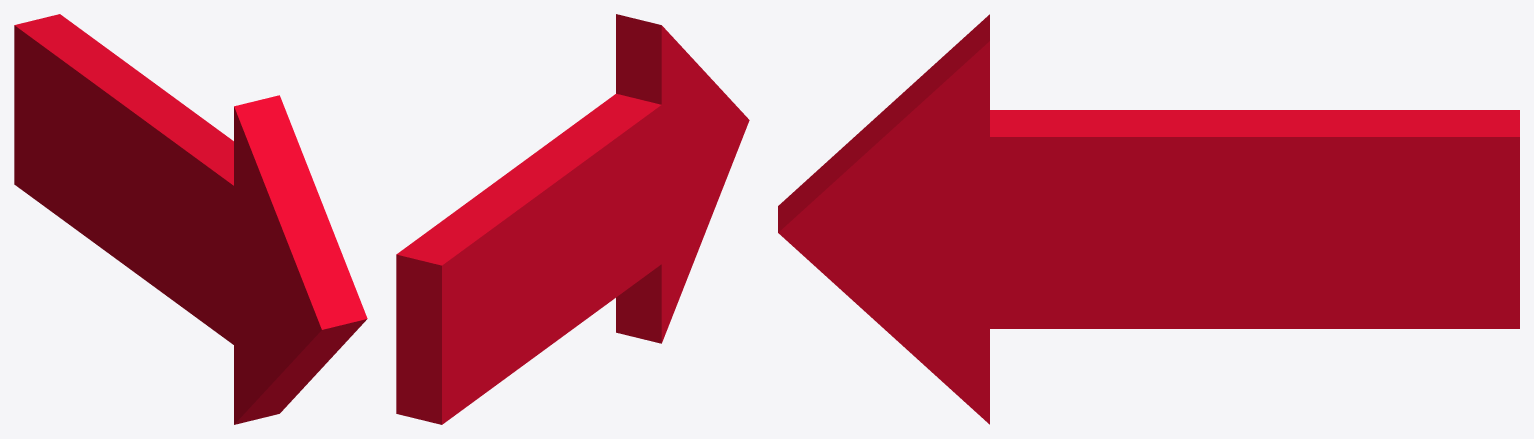
File: arrow.gltf
The picture shows the model from 3 angles, left to right: view 1: azimuth 30°, elevation 25°; view 2: azimuth 150°, elevation 25°; view 3: azimuth 270°, elevation 25°; orthographic projection. The views are drawn at different scales.
Parts seen in each view (by area): view 1: Cube; view 2: Cube; view 3: Cube.
Part boxes in pixels (x1,y1,x2,y2): Cube: [14, 14, 367, 424]; Cube: [396, 14, 749, 424]; Cube: [778, 14, 1519, 424].
Size of the model in its own units: 0.6 by 4 by 7.
1 material, 1 textured.
